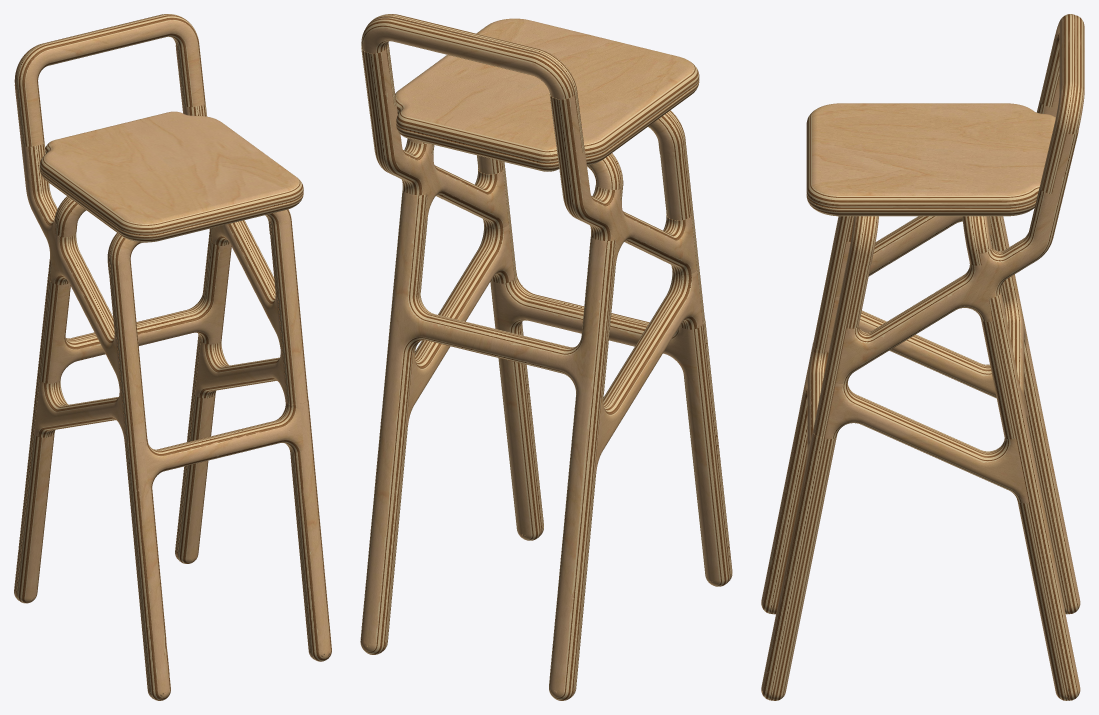
Rendered from stool-with-back.glb.
3 views of the same model, side by side, from view 1: azimuth 30°, elevation 25°; view 2: azimuth 150°, elevation 25°; view 3: azimuth 270°, elevation 25° (orthographic). The views are drawn at different scales.
Parts seen in each view (by area): view 1: Stool with Back.001; view 2: Stool with Back.001; view 3: Stool with Back.001.
Part boxes in pixels (x1=…): Stool with Back.001: x1=14, y1=14, x2=331, y2=700; Stool with Back.001: x1=360, y1=14, x2=732, y2=700; Stool with Back.001: x1=761, y1=14, x2=1084, y2=700.
Size of the model in its own units: 0.3443 by 1 by 0.484.
2 materials, 2 textured.
